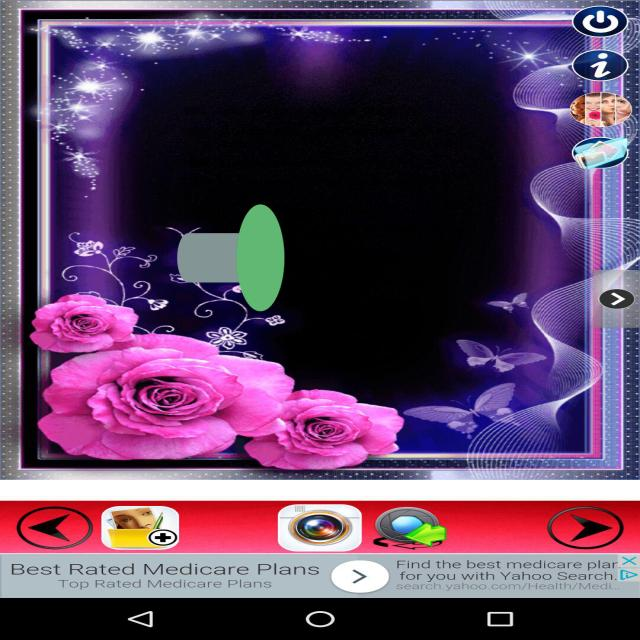social proof: (177, 139, 285, 377)
